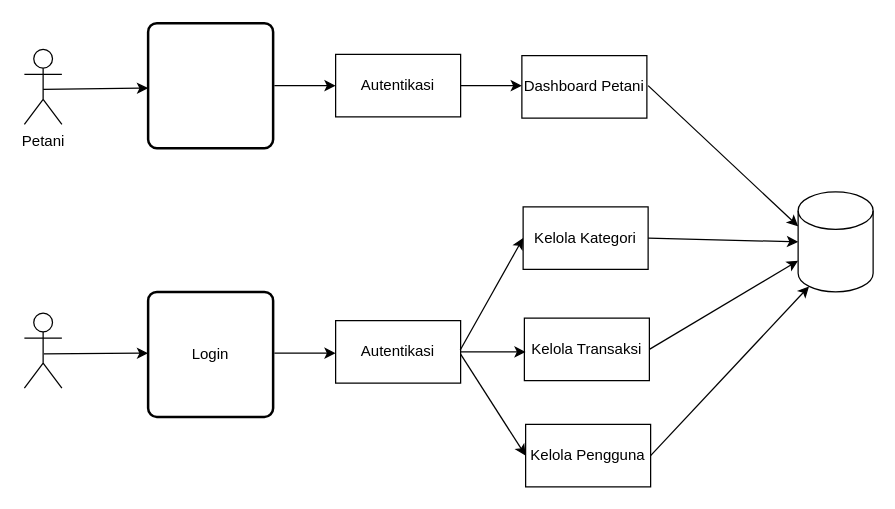
This 895x509 diagram has some shape labels left out. Each missing label, with the centre of its shape:
"Admin" belongs at (42,350).
"Database" belongs at (835,241).
"Login / Daftar" belongs at (210,85).
